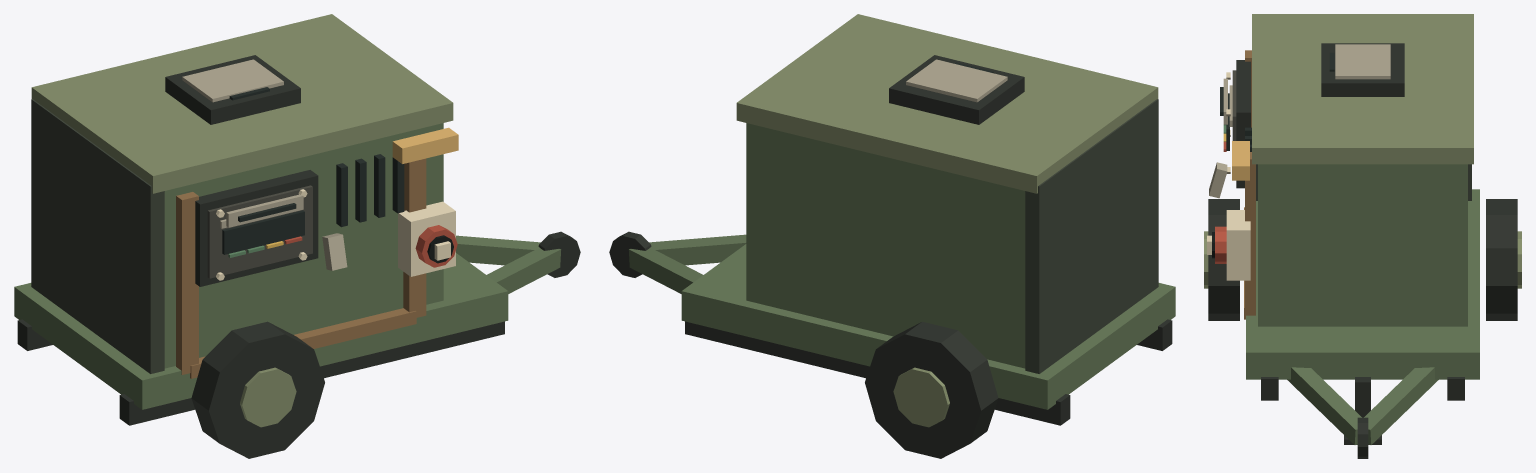
Rendered from lwf_towable_generator_isolated_v1.glb.
3 renders of one model, left to right at view 1: azimuth 30°, elevation 25°; view 2: azimuth 150°, elevation 25°; view 3: azimuth 270°, elevation 25°, orthographic. The views are drawn at different scales.
Parts seen in each view (by area): view 1: LWF_Generator_Base, LWF_Generator_State_Isolated; view 2: LWF_Generator_Base, LWF_Generator_State_Isolated; view 3: LWF_Generator_Base, LWF_Generator_State_Isolated.
Part boxes in pixels (left/top/right/bottom): LWF_Generator_Base: left=14, top=14, right=580, bottom=458; LWF_Generator_State_Isolated: left=165, top=55, right=347, bottom=270; LWF_Generator_Base: left=609, top=14, right=1175, bottom=458; LWF_Generator_State_Isolated: left=889, top=55, right=1024, bottom=124; LWF_Generator_Base: left=1204, top=14, right=1521, bottom=458; LWF_Generator_State_Isolated: left=1209, top=43, right=1404, bottom=198.
Size of the model in its own units: 2.68 by 1.55 by 1.6.
1 material, 1 textured.
